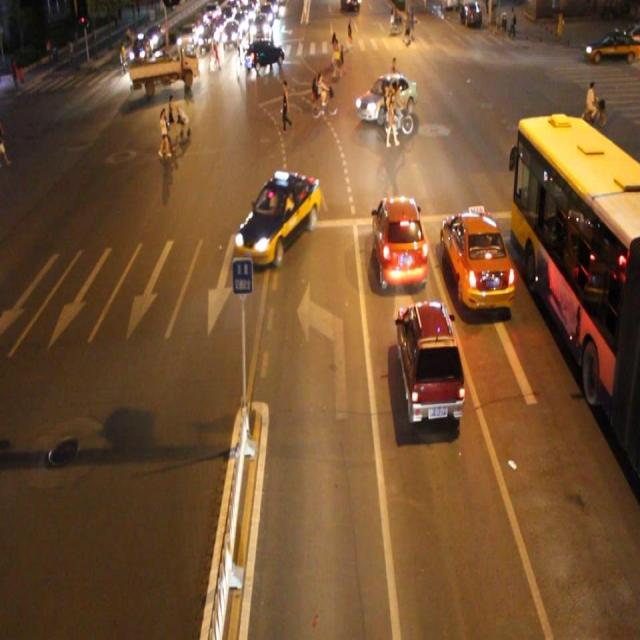bus: (128, 41, 198, 91)
car: (395, 297, 466, 422), (232, 170, 320, 266), (440, 204, 518, 308), (373, 192, 429, 288), (355, 74, 417, 122), (244, 38, 284, 72)
van: (511, 116, 640, 468)
